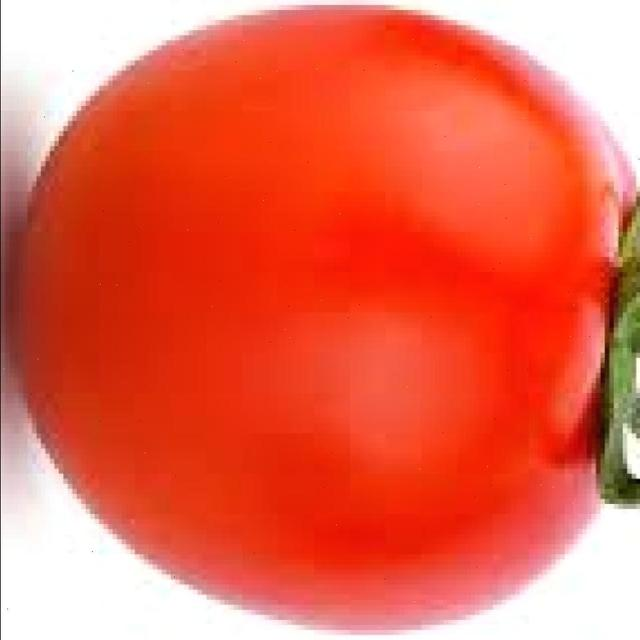Healthy Fruit: (3, 0, 422, 412)
